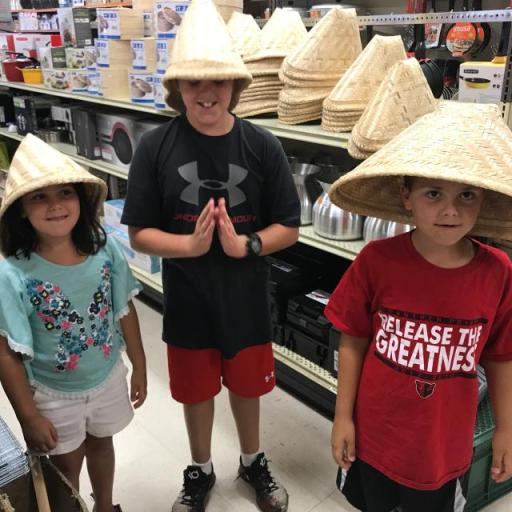Under Armour: (174, 159, 250, 212)
